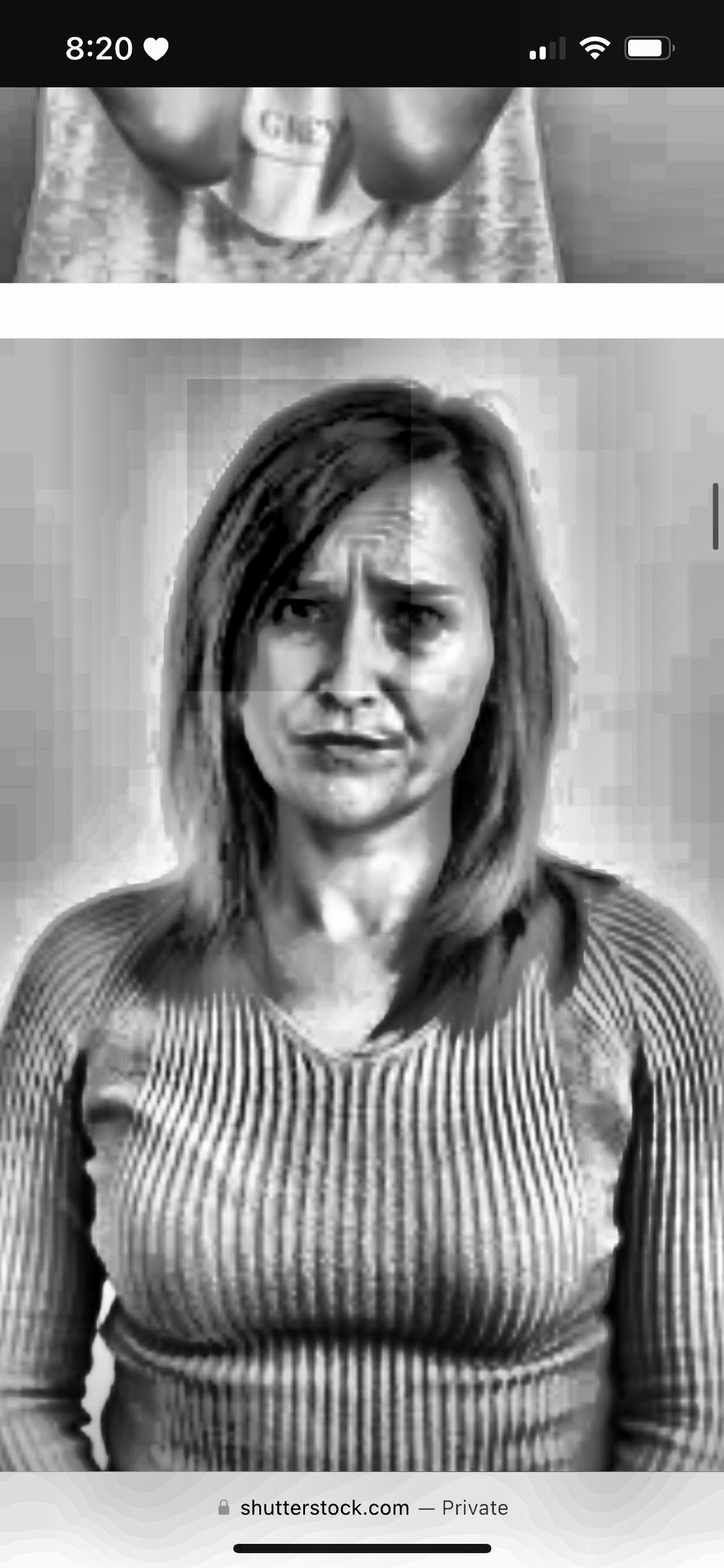sad: (231, 469, 508, 854)
